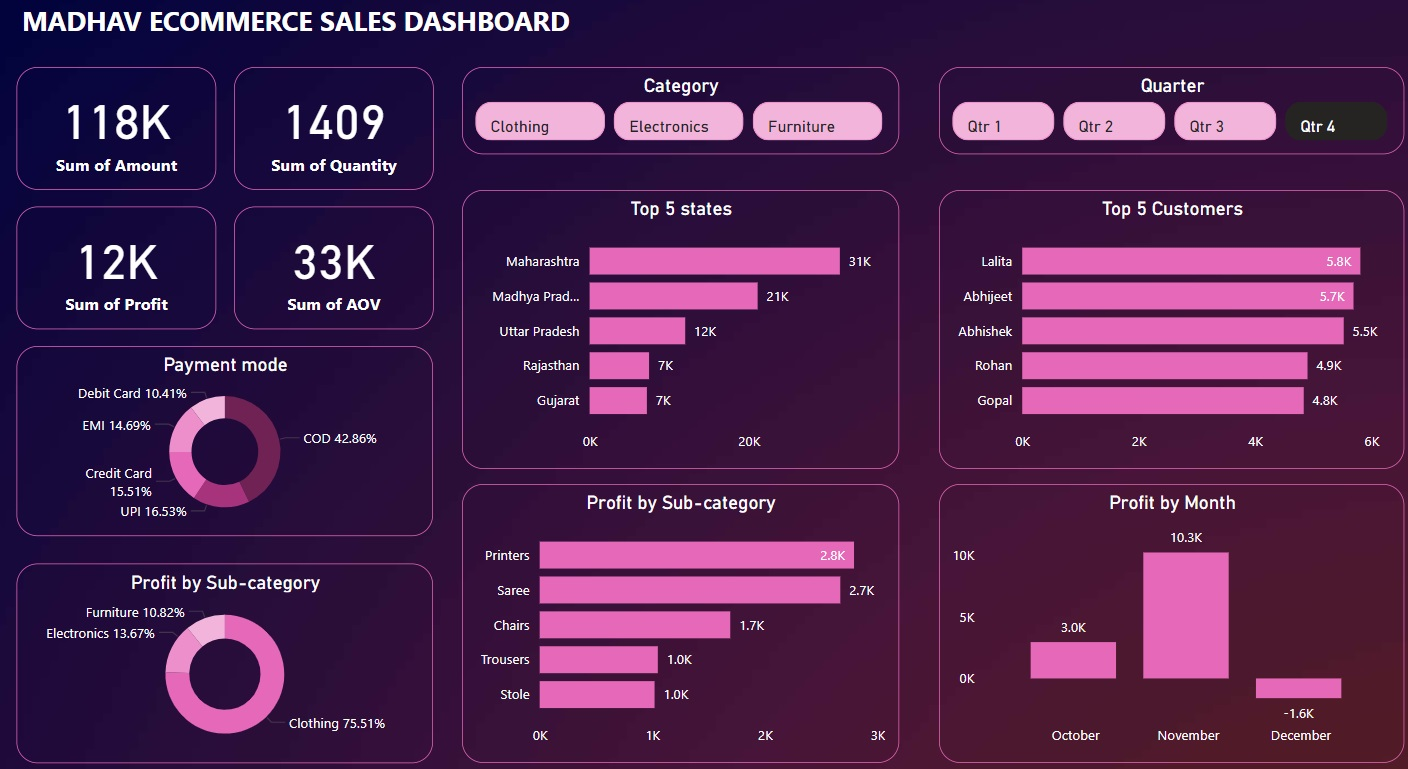

The page's visual inventory and layout, read from the dashboard file:
{"tool":"powerbi","page":{"name":"Page 1","canvas":[1280,720],"ordinal":0},"visuals":[{"type":"columnChart","title":"Profit by Month","fields":{"Category":["Orders (3).Order Date.Variation.Date Hierarchy.Month","Orders (3).Order Date.Variation.Date Hierarchy.Day"],"Y":["Details (1).Profit"]},"box":[849.5,457.3,419.4,251.4],"z":0},{"type":"textbox","box":[18.2,18.2,564.8,63.6],"z":1000},{"type":"barChart","title":"Profit by Sub-category","fields":{"Category":["Details (1).Sub-Category"],"Y":["Details (1).Profit"]},"box":[419.4,457.3,393.7,251.4],"z":2000},{"type":"donutChart","title":"Profit by Sub-category","fields":{"Category":["Details (1).Category"],"Y":["Details (1).Quantity"]},"box":[18.2,528.5,375.5,180.2],"z":3000},{"type":"donutChart","title":"Payment mode","fields":{"Category":["Details (1).PaymentMode"],"Y":["Details (1).Quantity"]},"box":[18.2,333.1,375.5,171.1],"z":4000},{"type":"card","fields":{"Values":["Details (1).Amount"]},"box":[18.2,81.8,180.2,110.5],"z":5000},{"type":"card","fields":{"Values":["Details (1).Profit"]},"box":[18.2,207.4,180.2,110.5],"z":6000},{"type":"card","fields":{"Values":["Details (1).Quantity"]},"box":[213.5,81.8,180.2,110.5],"z":7000},{"type":"card","fields":{"Values":["Details (1).AOV"]},"box":[213.5,207.4,180.2,110.5],"z":8000},{"type":"barChart","title":"Top 5 states","fields":{"Category":["Orders (3).State"],"Y":["Details (1).Amount"]},"box":[419.4,192.3,393.7,251.4],"z":9000},{"type":"barChart","title":"Top 5 Customers","fields":{"Category":["Orders (3).CustomerName"],"Y":["Details (1).Amount"]},"box":[849.5,192.3,419.4,251.4],"z":10000},{"type":"advancedSlicerVisual","fields":{"Values":["Orders (3).Order Date.Variation.Date Hierarchy.Quarter"]},"box":[849.5,81.8,419.4,78.7],"z":11000},{"type":"advancedSlicerVisual","fields":{"Values":["Details (1).Category"]},"box":[419.4,81.8,393.7,78.7],"z":11001}]}

Visuals, with their boxes in screenshot pixels (x1, y1, x2, y2), scaled from the page's 1280x720 canvas onto the 1408x769 screenshot:
"Profit by Month" columnChart: (left=934, top=488, right=1396, bottom=757)
textbox: (left=20, top=19, right=641, bottom=87)
"Profit by Sub-category" barChart: (left=461, top=488, right=894, bottom=757)
"Profit by Sub-category" donutChart: (left=20, top=564, right=433, bottom=757)
"Payment mode" donutChart: (left=20, top=356, right=433, bottom=539)
card - Details (1).Amount: (left=20, top=87, right=218, bottom=205)
card - Details (1).Profit: (left=20, top=222, right=218, bottom=340)
card - Details (1).Quantity: (left=235, top=87, right=433, bottom=205)
card - Details (1).AOV: (left=235, top=222, right=433, bottom=340)
"Top 5 states" barChart: (left=461, top=205, right=894, bottom=474)
"Top 5 Customers" barChart: (left=934, top=205, right=1396, bottom=474)
advancedSlicerVisual - Orders (3).Order Date.Variation.Date Hierarchy.Quarter: (left=934, top=87, right=1396, bottom=171)
advancedSlicerVisual - Details (1).Category: (left=461, top=87, right=894, bottom=171)
